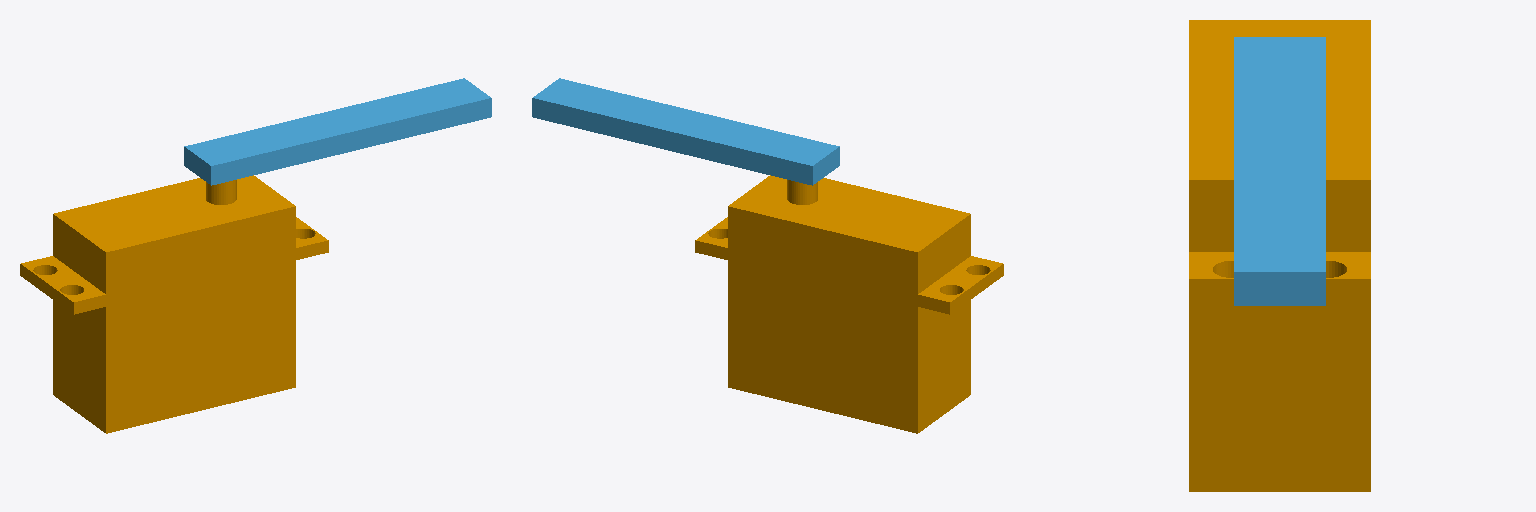
robot.urdf — urdf_1joint:
<?xml version="1.0"?>
<!-- T0.7: hand-written 1-joint URDF. Conventions (P0 §4): metres / kg / rad; a child link's frame is
     its joint connector frame, so every joint axis is "0 0 1".
     base_link = MG996R card frame (body_mount: flange underside, centred on the holes, +z to shaft).
     arm_link  = horn connector frame on the spline tip; 60 x 10 x 4 mm PETG bar along +x.
     Joint origin = card output_shaft connector [shaft_x, 0, spline_top] = [10, 0, 16.9] mm.
     Limits from the card: range +-90 deg; effort = 1.08 N m stall (6 V) x 0.5 derating; velocity 7 rad/s.
     Inertials from spikes/urdf_1joint/make_meshes.py (S9 rules); off-diagonals < 1e-20 written as 0. -->
<robot name="urdf_1joint">
  <link name="base_link">
    <inertial>
      <origin xyz="0.0000504 0 -0.0071917" rpy="0 0 0"/>
      <mass value="0.055"/>
      <inertia ixx="8.1369e-06" ixy="0" ixz="-5.8704e-08" iyy="1.43467e-05" iyz="0" izz="9.7541e-06"/>
    </inertial>
    <visual>
      <geometry><mesh filename="package://urdf_1joint/meshes/mg996r.stl"/></geometry>
    </visual>
    <collision>
      <geometry><mesh filename="package://urdf_1joint/meshes/mg996r.stl"/></geometry>
    </collision>
  </link>

  <joint name="j_shaft" type="revolute">
    <parent link="base_link"/>
    <child link="arm_link"/>
    <origin xyz="0.010 0 0.0169" rpy="0 0 0"/>
    <axis xyz="0 0 1"/>
    <limit lower="-1.5707963" upper="1.5707963" effort="0.54" velocity="7.0"/>
  </joint>

  <link name="arm_link">
    <inertial>
      <origin xyz="0.025 0 0.002" rpy="0 0 0"/>
      <mass value="0.003048"/>
      <inertia ixx="2.9464e-08" ixy="0" ixz="0" iyy="9.18464e-07" iyz="0" izz="9.398e-07"/>
    </inertial>
    <visual>
      <geometry><mesh filename="package://urdf_1joint/meshes/arm.stl"/></geometry>
    </visual>
    <collision>
      <geometry><mesh filename="package://urdf_1joint/meshes/arm.stl"/></geometry>
    </collision>
  </link>
</robot>

--- Facts derived from the render (not from the file) ---
The picture shows the robot from 3 angles, left to right: view 1: azimuth 30°, elevation 25°; view 2: azimuth 150°, elevation 25°; view 3: azimuth 270°, elevation 25°; orthographic projection.
Robot: urdf_1joint — 2 links, 1 joints (1 revolute); root link base_link; default pose: every joint at zero.
Visible links, largest first — view 1: base_link, arm_link; view 2: base_link, arm_link; view 3: base_link, arm_link.
Link boxes in pixels (x1=…): base_link: x1=20, y1=175, x2=328, y2=433; arm_link: x1=184, y1=78, x2=491, y2=185; base_link: x1=695, y1=175, x2=1003, y2=433; arm_link: x1=532, y1=78, x2=839, y2=185; base_link: x1=1189, y1=20, x2=1370, y2=491; arm_link: x1=1234, y1=37, x2=1325, y2=305.
Size in the robot's own frame: 0.0923 by 0.0197 by 0.0469 metres.
Meshes: 2 distinct files referenced, 2 mesh visuals loaded (2 binary STL).
